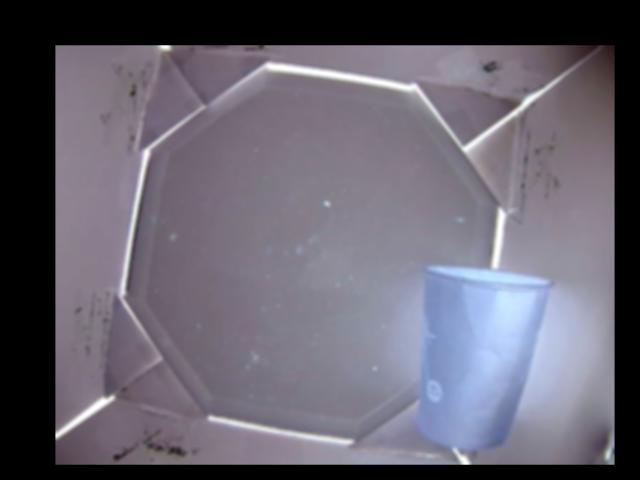Cup: (419, 267, 557, 446)
